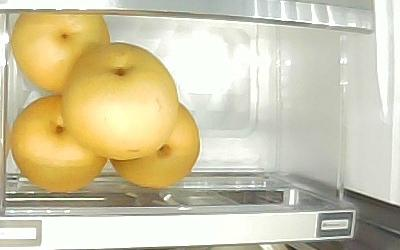pear: (62, 43, 179, 160), (10, 94, 108, 193), (11, 11, 111, 94), (109, 100, 201, 189)
